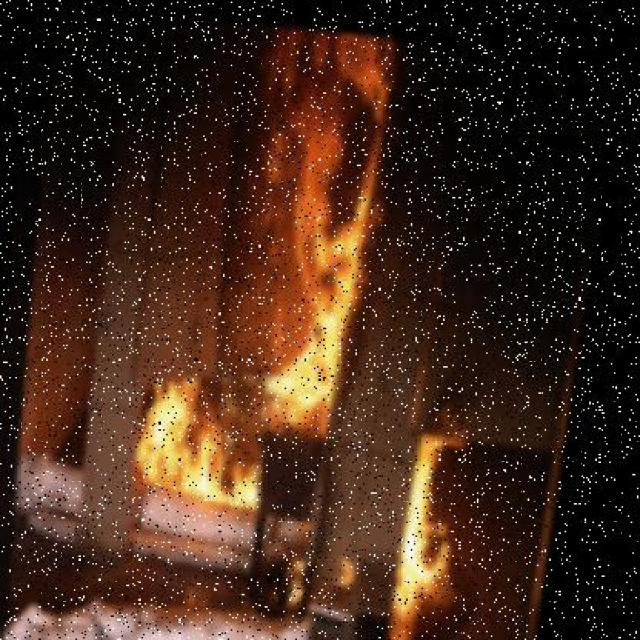fire: (140, 15, 416, 510)
